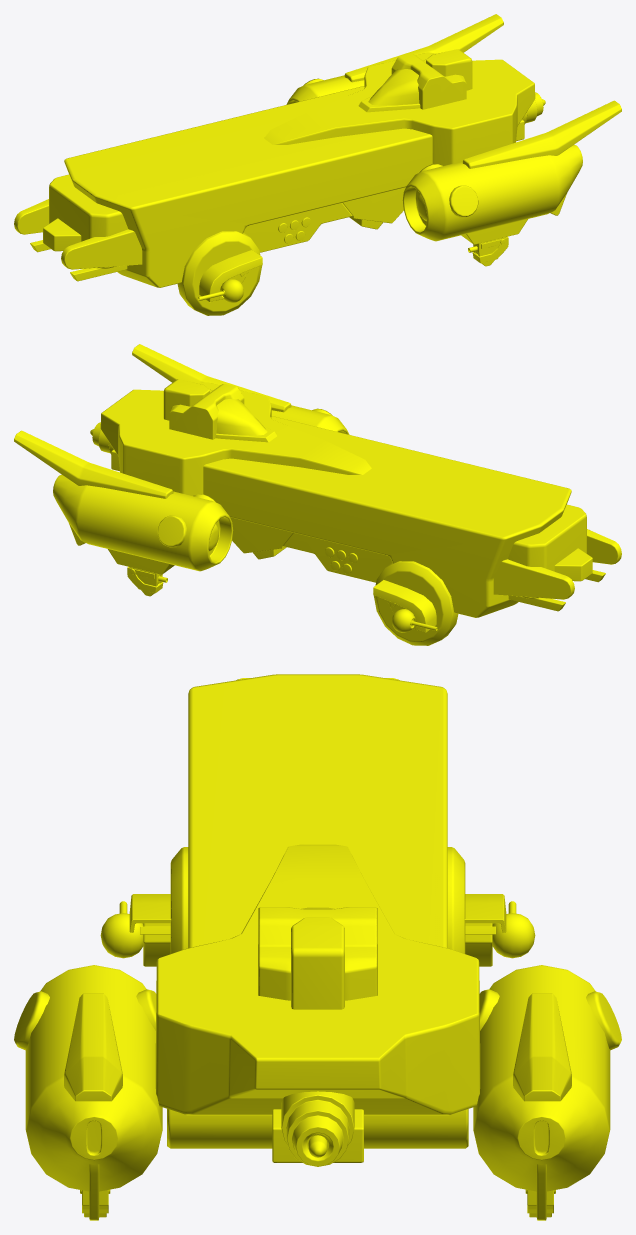
Rendered from frigate_03.gltf.
3 views of the same model, one above another, from view 1: azimuth 30°, elevation 25°; view 2: azimuth 150°, elevation 25°; view 3: azimuth 270°, elevation 25° (orthographic). The views are drawn at different scales.
Parts seen in each view (by area): view 1: Frigate_3; view 2: Frigate_3; view 3: Frigate_3.
Part boxes in pixels (x1,y1,x2,y2): Frigate_3: (14, 14, 621, 315); Frigate_3: (14, 344, 621, 645); Frigate_3: (14, 674, 621, 1220).
Bounding box in the file's own units: 41.02 × 12.74 × 21.89.
Materials: 1 (1 with a texture image).
